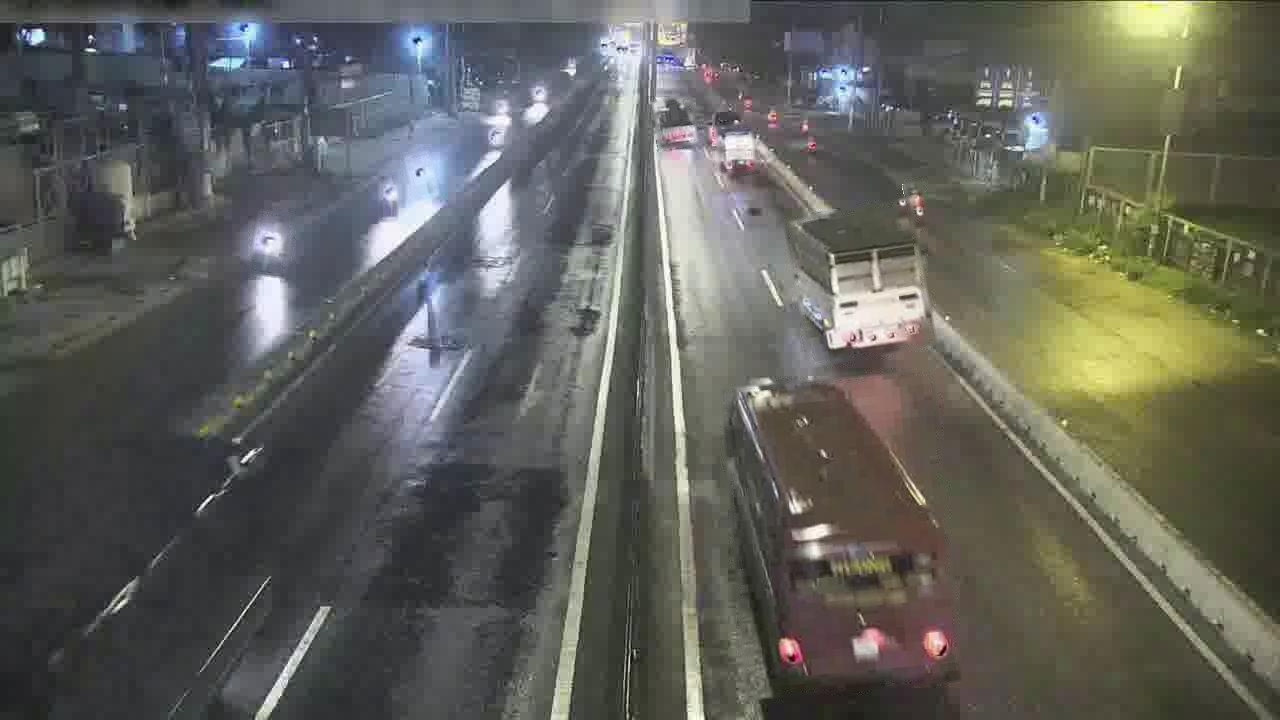Bus: (726, 379, 957, 696)
Motorcyclist: (250, 217, 290, 275), (406, 153, 438, 200), (900, 184, 926, 225), (379, 175, 400, 217)
Truck: (787, 207, 931, 350), (658, 99, 696, 146), (722, 129, 755, 173)
